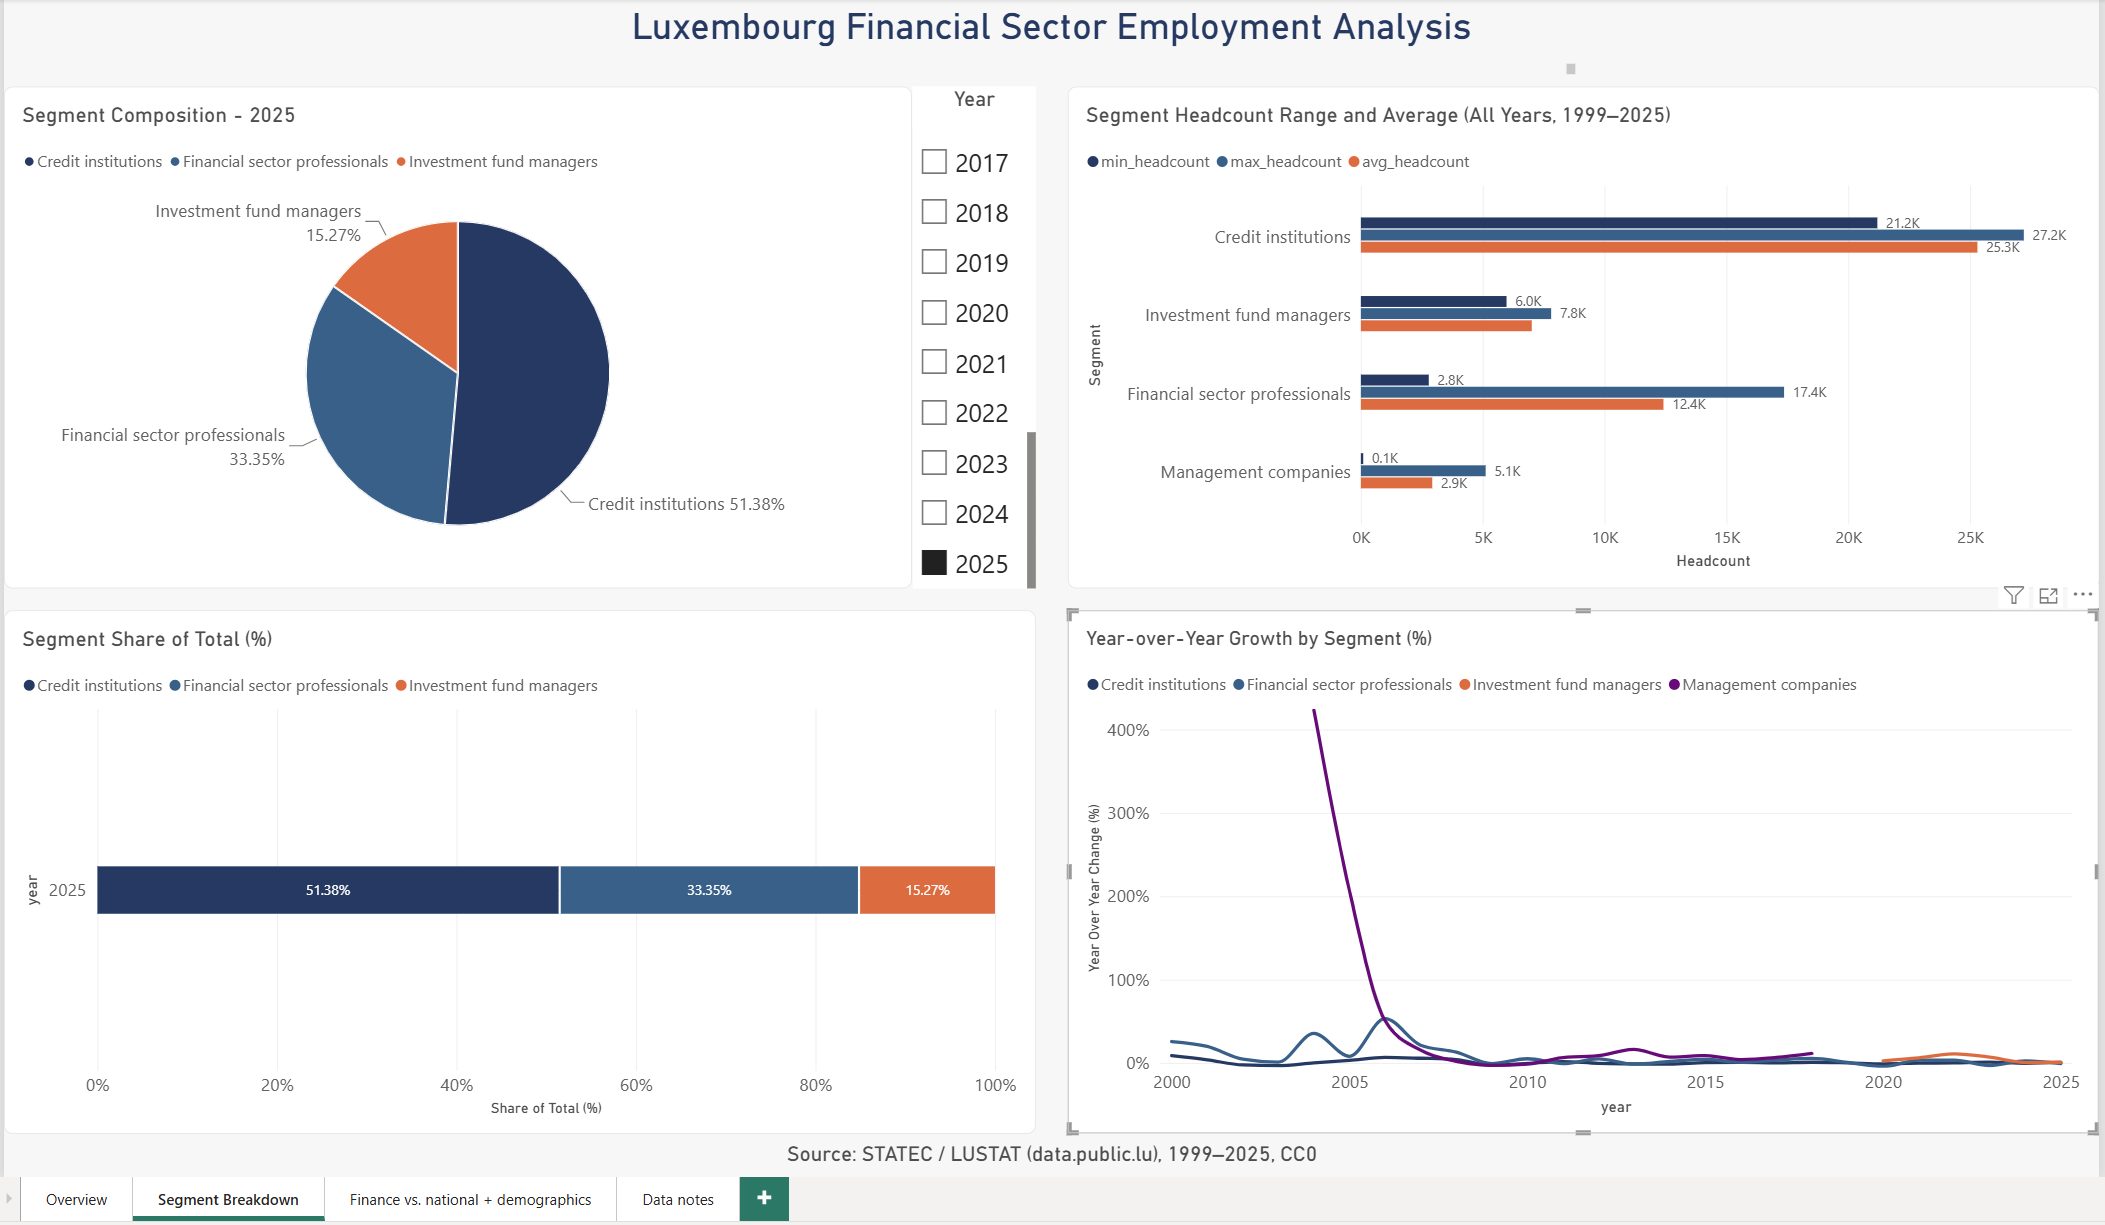

This screenshot's page, from the dashboard's own definition file:
{"tool":"powerbi","page":{"name":"Segment Breakdown","canvas":[1920,1080],"ordinal":1},"visuals":[{"type":"textbox","title":"Luxembourg Financial Sector Employment Analysis","box":[480.1,5.6,960.2,63],"z":0},{"type":"textbox","title":"Source: STATEC / LUSTAT (data.public.lu), 1999–2025, CC0","box":[700.8,1047.3,518.9,32.5],"z":1000},{"type":"pieChart","title":"Segment Composition - 2025","fields":{"Category":["vw_segment_share_by_year.segment"],"Y":["Sum(vw_segment_share_by_year.headcount)"]},"box":[0,79.7,832.3,459.7],"z":2000},{"type":"clusteredBarChart","title":"Segment Headcount Range and Average (All Years, 1999–2025)","fields":{"Category":["vw_segment_avg_headcount.segment"],"Y":["Sum(vw_segment_avg_headcount.min_headcount)","Sum(vw_segment_avg_headcount.max_headcount)","Sum(vw_segment_avg_headcount.avg_headcount)"]},"box":[975,79.7,945.4,459.7],"z":3000},{"type":"hundredPercentStackedBarChart","title":"Segment Share of Total (%)","fields":{"Category":["vw_segment_share_by_year.year"],"Series":["vw_segment_share_by_year.segment"],"Y":["Sum(vw_segment_share_by_year.pct_of_year_total)"]},"box":[0,559.8,945.4,480.1],"z":4000},{"type":"lineChart","title":"Year-over-Year Growth by Segment (%)","fields":{"Category":["vw_segment_yoy_growth.year"],"Series":["vw_segment_yoy_growth.segment"],"Y":["Sum(vw_segment_yoy_growth.year_over_year_pct_change)"]},"box":[975,559.8,945.4,480.1],"z":5000},{"type":"slicer","title":"Year","fields":{"Values":["vw_segment_share_by_year.year"]},"box":[832.3,79.7,113.1,459.7],"z":6000}]}

Visuals, with their boxes on the page's 1920x1080 design canvas (x1, y1, x2, y2). These are canvas units, not pixel positions in the 2105x1225 screenshot, which may show the page scaled, cropped or inside an application window:
"Luxembourg Financial Sector Employment Analysis" textbox: region(480, 6, 1440, 69)
"Source: STATEC / LUSTAT (data.public.lu), 1999–2025, CC0" textbox: region(701, 1047, 1220, 1080)
"Segment Composition - 2025" pieChart: region(0, 80, 832, 539)
"Segment Headcount Range and Average (All Years, 1999–2025)" clusteredBarChart: region(975, 80, 1920, 539)
"Segment Share of Total (%)" hundredPercentStackedBarChart: region(0, 560, 945, 1040)
"Year-over-Year Growth by Segment (%)" lineChart: region(975, 560, 1920, 1040)
"Year" slicer: region(832, 80, 945, 539)
